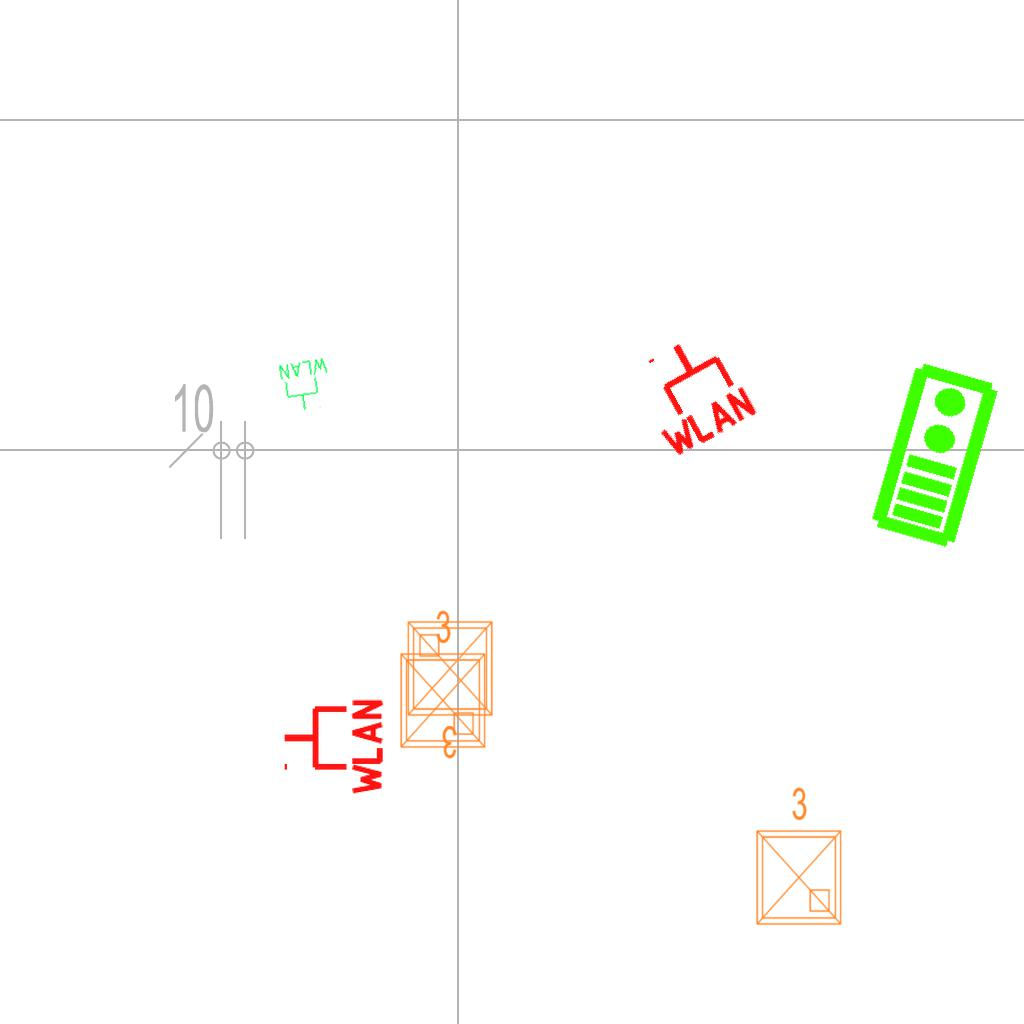Einbaudownlights_LED_Konferenzraeume: (745, 782, 849, 932), (389, 605, 493, 755), (400, 614, 504, 764)
Gegensprechanlage_mit_Video: (863, 356, 1004, 552)
WLAN: (620, 320, 763, 464), (280, 695, 385, 799), (276, 355, 336, 415)
